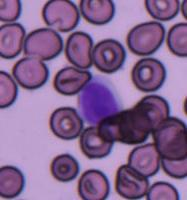L: (78, 75, 123, 127)
